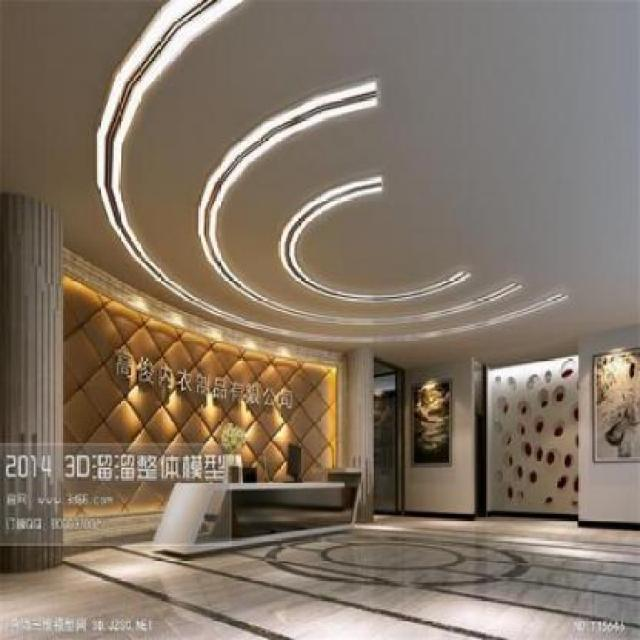frontdesk: (143, 456, 371, 562)
